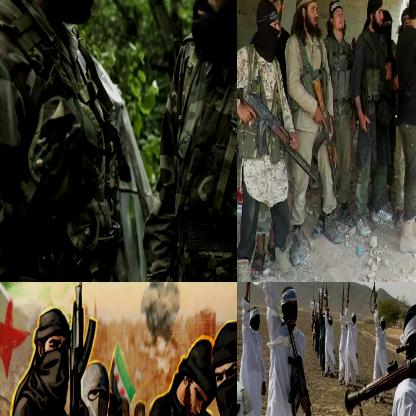rifle: (237, 91, 320, 189), (346, 306, 415, 415), (66, 282, 98, 415), (312, 77, 344, 202), (286, 350, 319, 415)
